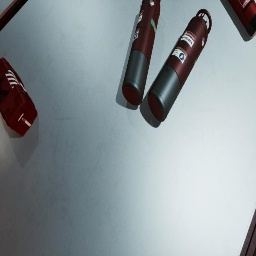FireExtinguisher ]: (227, 0, 256, 38)
FirstAidBox ,: (0, 57, 38, 136)
NitrogenTank ,: (148, 9, 212, 122), (122, 0, 160, 106)
